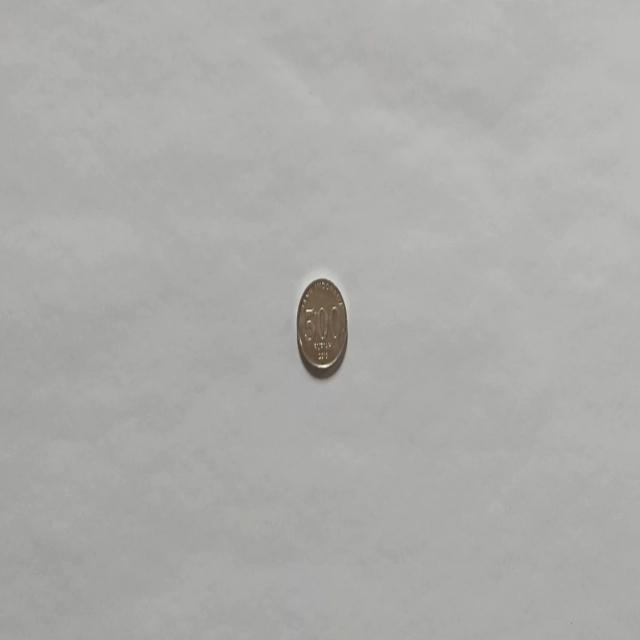lima ratus rupiah: (296, 276, 348, 378)
